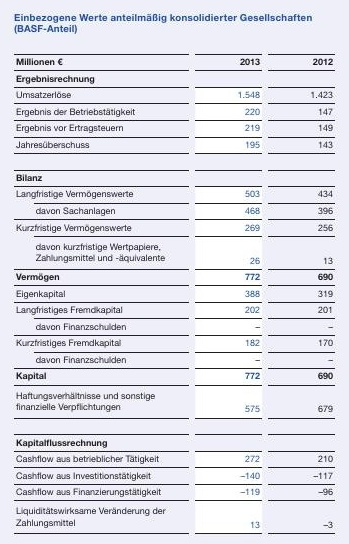table: (0, 0, 349, 544)
